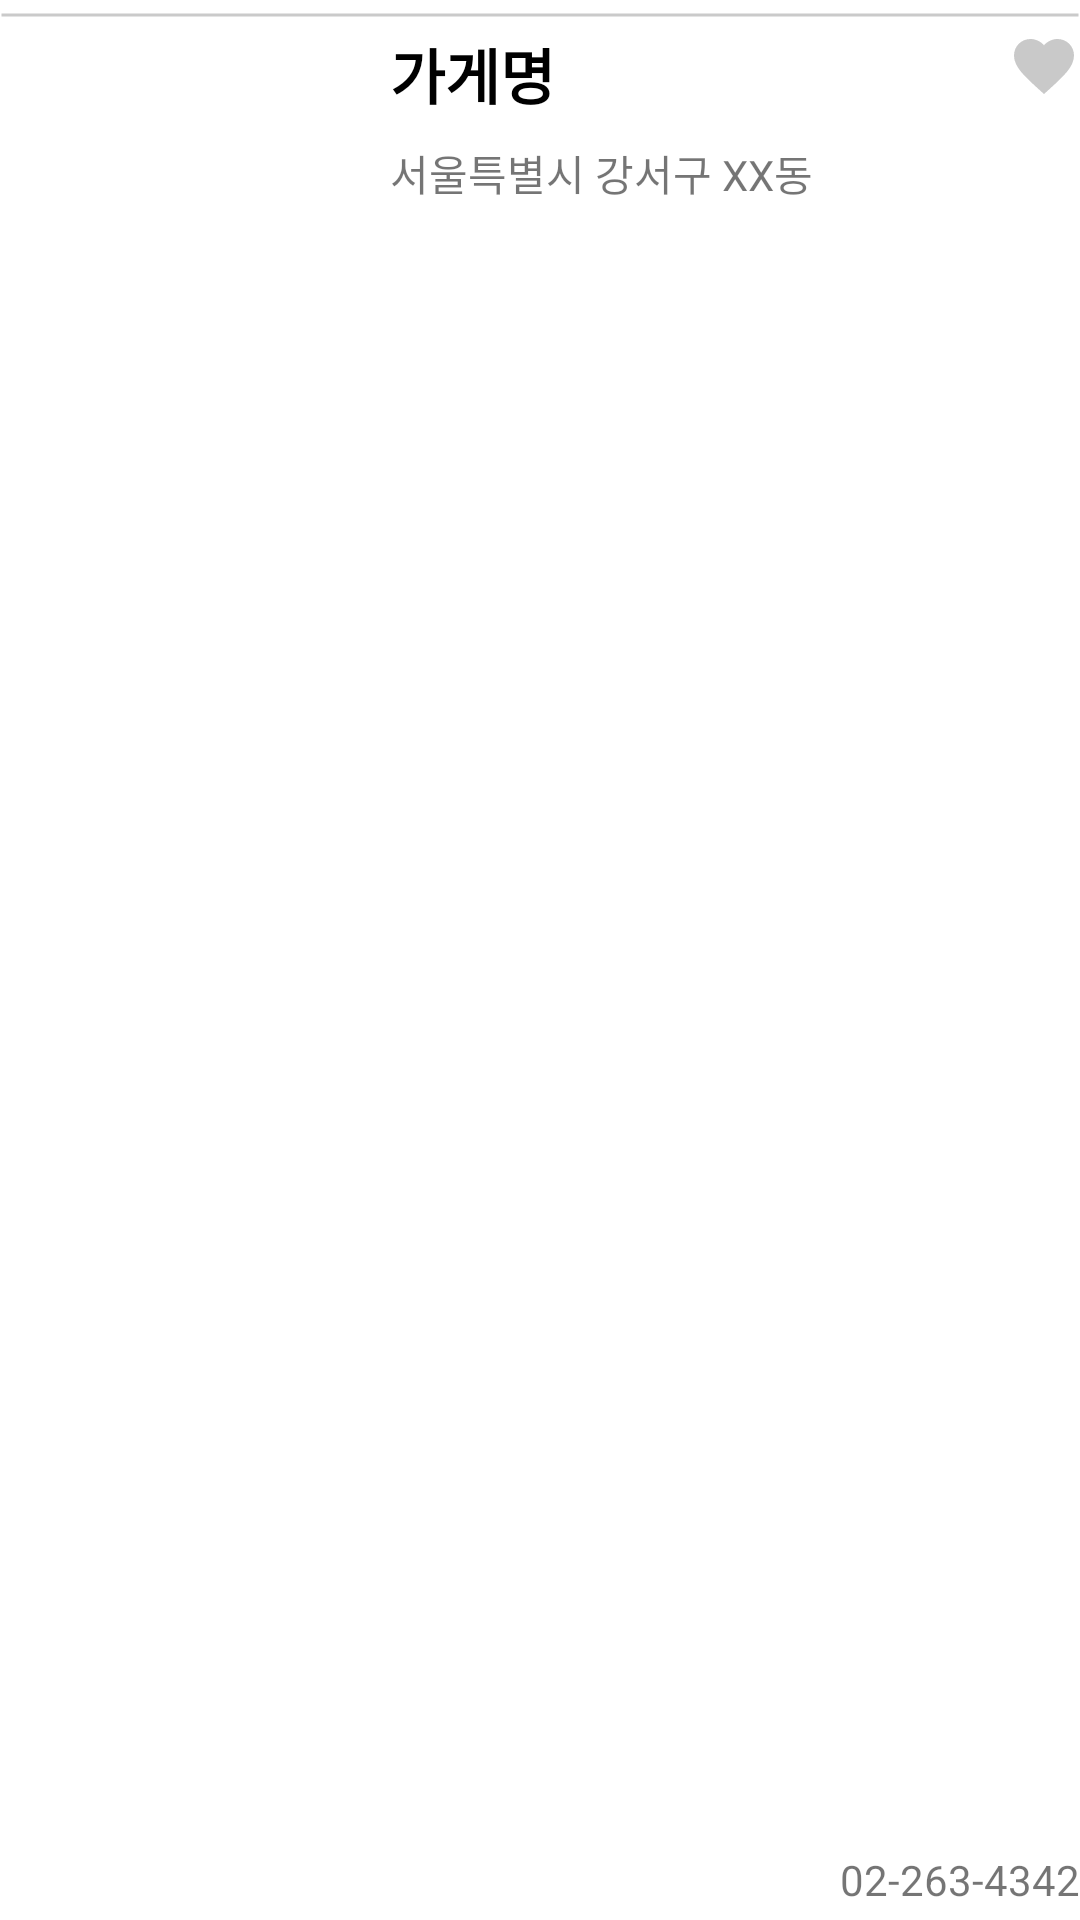

Icons on this 1080px x 1920px Android screen, each with its box as (x1, y1, x2, y2):
favorite: (1014, 39, 1074, 94)
